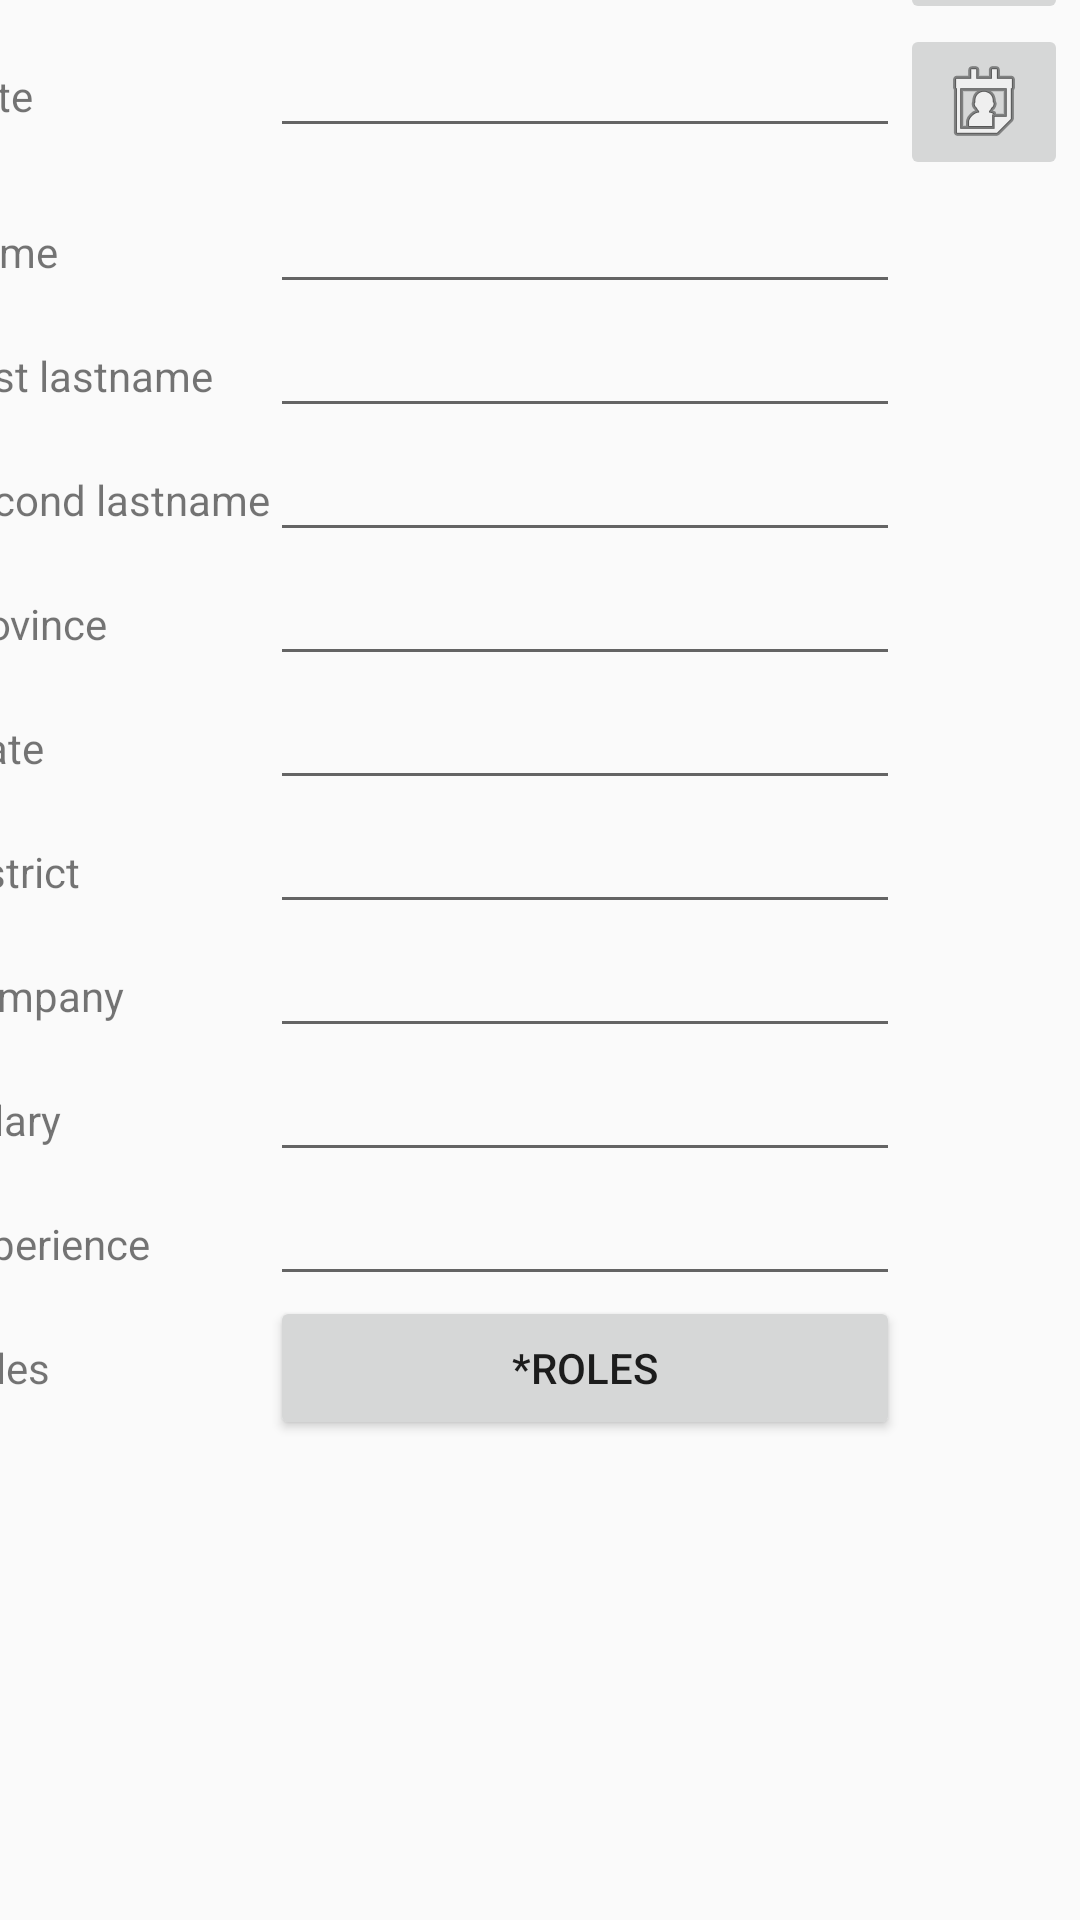

Screen size 1080×1920. Icon name, then its box in pixels as detection(x1, y1, x2, y2):
calendar: detection(912, 42, 1056, 162)
